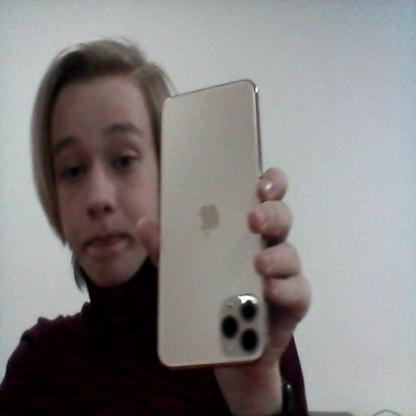phone: (154, 78, 274, 370)
